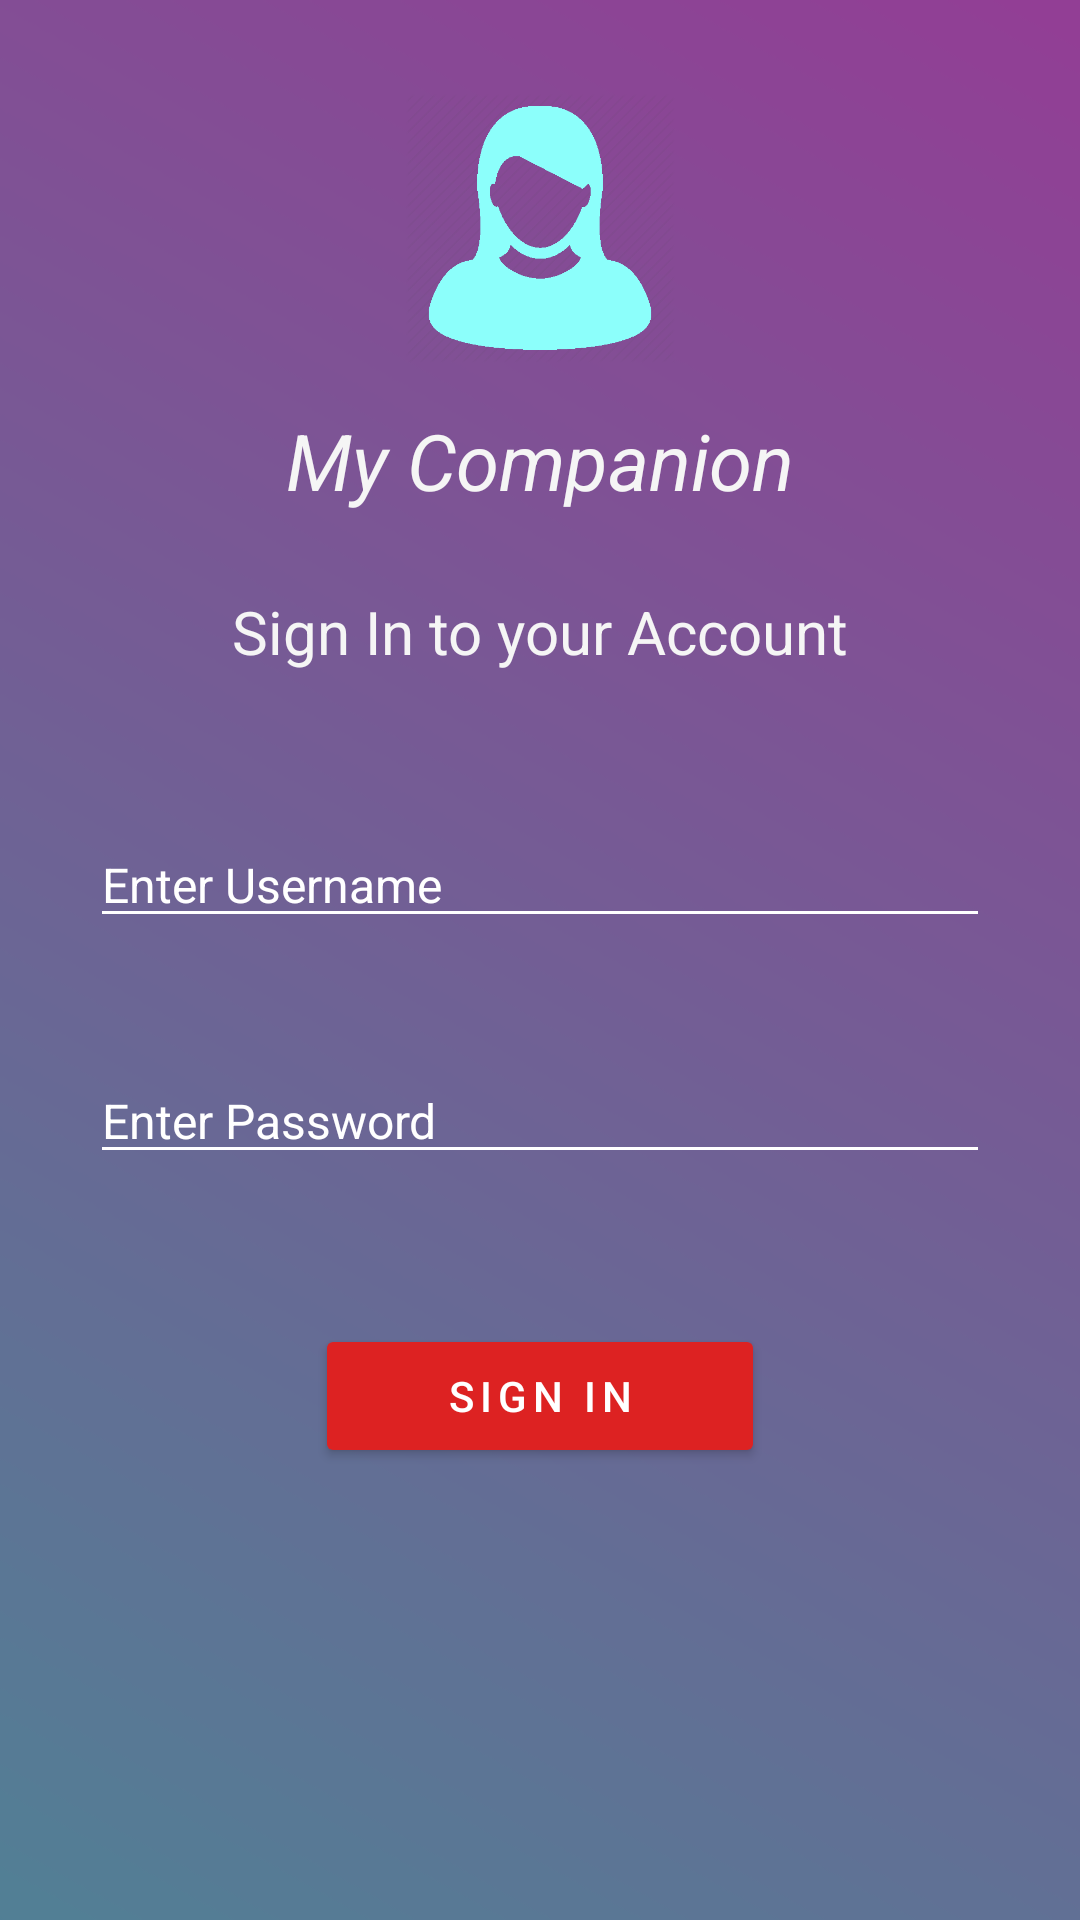

Named icons in this screenshot (1080 × 1920) and their bounding boxes, (x1, y1, x2, y2):
woman: (429, 106, 651, 350)
